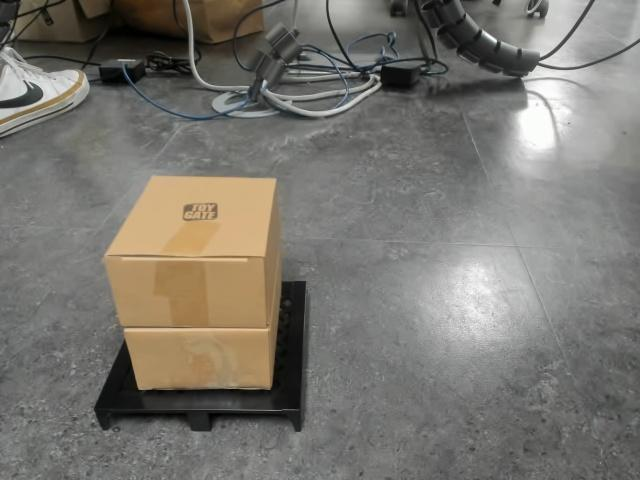box: (94, 174, 311, 429)
